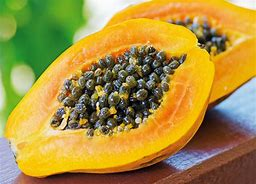papaya: (4, 16, 215, 180)
